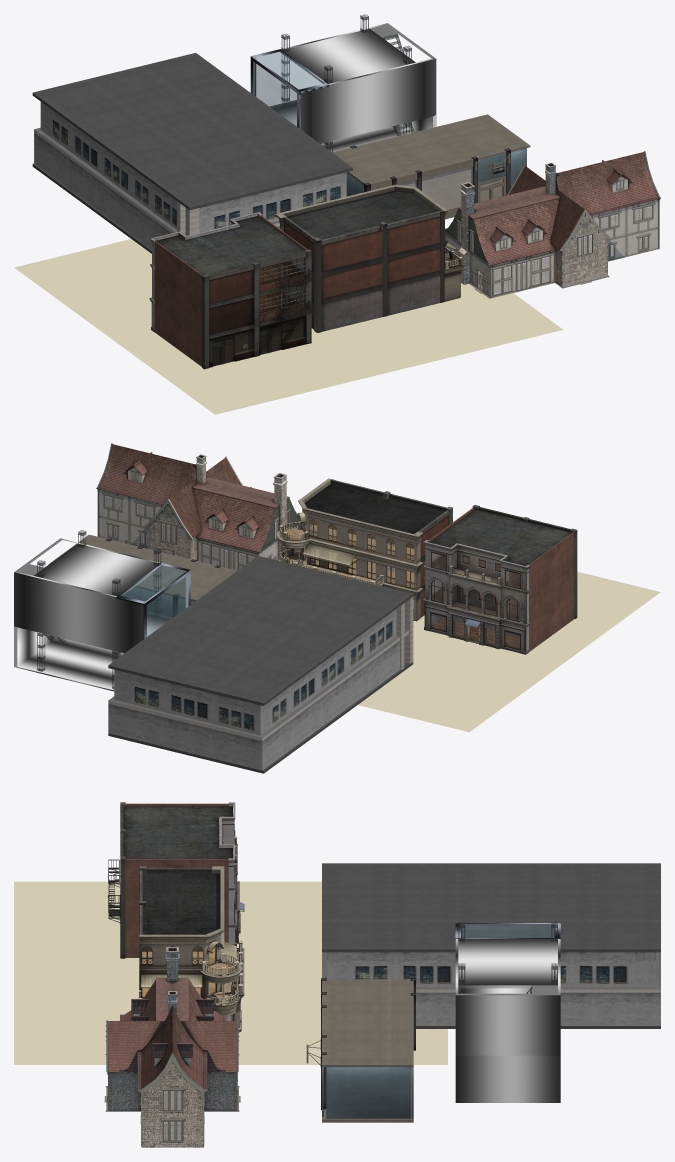
3 renders of one model, top to bottom at view 1: azimuth 30°, elevation 25°; view 2: azimuth 150°, elevation 25°; view 3: azimuth 270°, elevation 25°, orthographic. The views are drawn at different scales.
Visible parts, largest first — view 1: Big warehouse building, Terrain 10,4, Clesse Manor (×11), prim0-mesh_0 (×6), prim0-mesh (×4), Texture Store, fantasia upper floor, fantasia floor (×2), MESHWORX~Rodeo Collection~Store-K, Small Gallery - Store; view 2: Big warehouse building, Terrain 10,4, prim0-mesh (×7), Clesse Manor (×9), prim0-mesh_0 (×9), fantasia floor (×2), fantasia upper floor, MESHWORX~Rodeo Collection~Store-K, Texture Store, Small Gallery - Store; view 3: Big warehouse building, Terrain 10,4, Clesse Manor (×9), Texture Store, prim0-mesh (×4), fantasia floor (×2), prim0-mesh_0 (×5), fantasia upper floor, Small Gallery - Store.
Boxes of the visible parts, x1,y1,x2,y2 form: Big warehouse building: (32, 53, 352, 253); Terrain 10,4: (14, 239, 563, 414); Clesse Manor (×11): (445, 151, 659, 298); prim0-mesh_0 (×6): (275, 184, 460, 332); prim0-mesh (×4): (150, 212, 311, 369); Texture Store: (332, 114, 530, 219); fantasia upper floor: (253, 23, 436, 143); fantasia floor (×2): (280, 28, 436, 151); MESHWORX~Rodeo Collection~Store-K: (154, 241, 202, 366); Small Gallery - Store: (250, 34, 414, 135); Big warehouse building: (108, 556, 413, 773); Terrain 10,4: (358, 571, 660, 732); prim0-mesh (×7): (422, 505, 577, 654); Clesse Manor (×9): (97, 443, 300, 560); prim0-mesh_0 (×9): (276, 478, 449, 617); fantasia floor (×2): (14, 543, 162, 691); fantasia upper floor: (14, 538, 188, 653); MESHWORX~Rodeo Collection~Store-K: (433, 532, 574, 651); Texture Store: (48, 534, 236, 617); Small Gallery - Store: (45, 563, 190, 645); Big warehouse building: (322, 863, 660, 1028); Terrain 10,4: (14, 881, 447, 1064); Clesse Manor (×9): (105, 977, 239, 1147); Texture Store: (306, 978, 415, 1122); prim0-mesh (×4): (120, 802, 238, 958); fantasia floor (×2): (455, 939, 560, 1102); prim0-mesh_0 (×5): (139, 866, 244, 1013); fantasia upper floor: (455, 939, 560, 1055); Small Gallery - Store: (455, 923, 560, 993).
Size of what is drawn, in the model's own units: 92.59 by 20.87 by 95.41.
378 materials, 376 textured.
